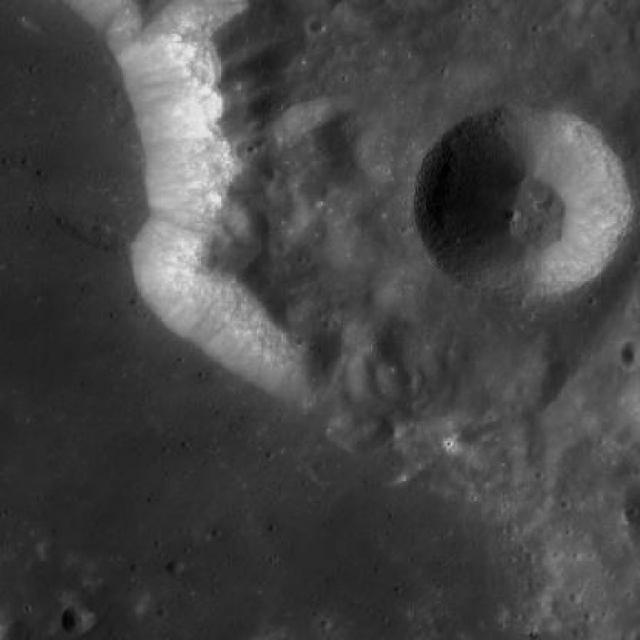crater: (414, 100, 628, 303), (375, 316, 428, 366), (308, 440, 358, 486), (520, 438, 558, 473), (61, 606, 94, 636), (164, 558, 182, 576), (308, 18, 327, 34)
